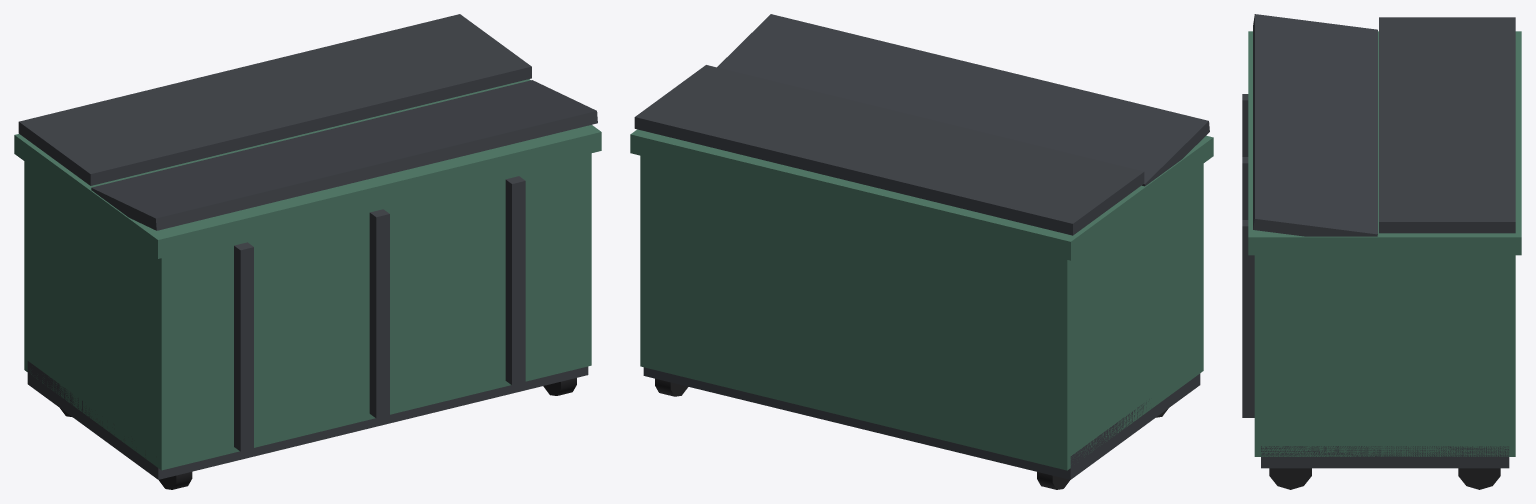
Rendered from prop_street_dumpster.glb.
3 views of the same model, side by side, from view 1: azimuth 30°, elevation 25°; view 2: azimuth 150°, elevation 25°; view 3: azimuth 270°, elevation 25° (orthographic). The views are drawn at different scales.
Parts seen in each view (by area): view 1: dumpster; view 2: dumpster; view 3: dumpster.
Part boxes in pixels (x1,y1,x2,y2): dumpster: (14,14,601,489); dumpster: (630,14,1213,489); dumpster: (1242,14,1521,489).
Size of the model in its own units: 1.96 by 1.23 by 1.12.
